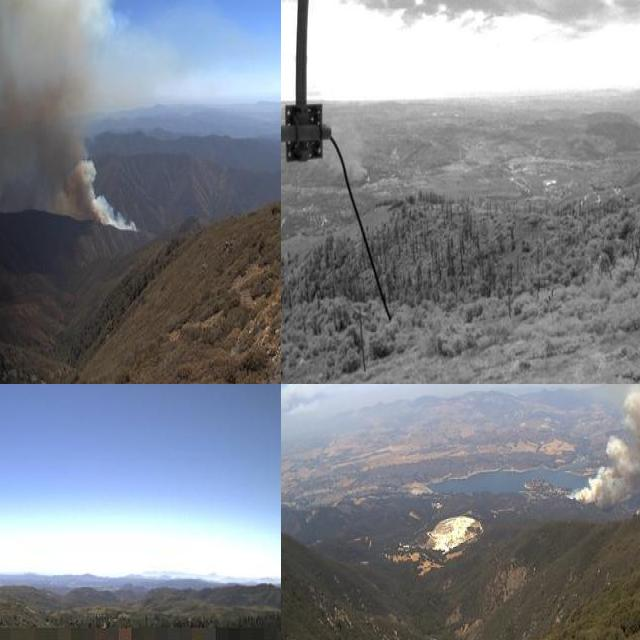smoke: (0, 0, 152, 234), (565, 384, 640, 511), (326, 105, 367, 183)
